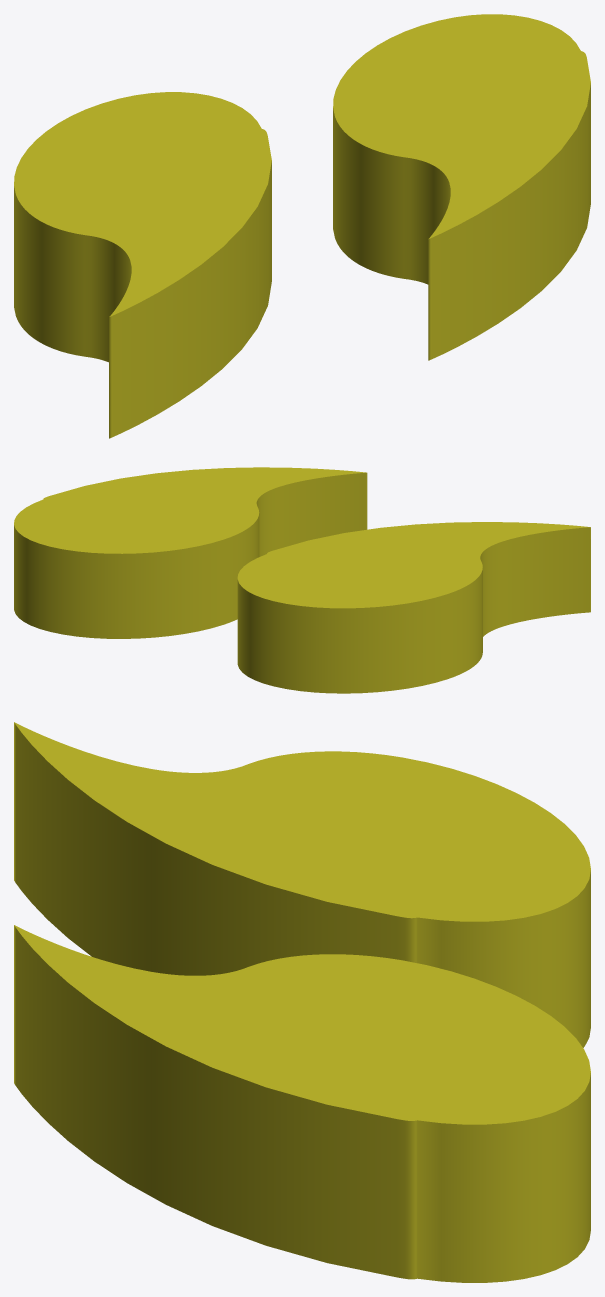
File: DoorRightPanelQuotes.glb
3 renders of one model, top to bottom at view 1: azimuth 30°, elevation 25°; view 2: azimuth 150°, elevation 25°; view 3: azimuth 270°, elevation 25°, orthographic. The views are drawn at different scales.
Visible parts, largest first — view 1: Text; view 2: Text; view 3: Text.
Boxes of the visible parts, left/top/right/bottom form: Text: left=14, top=14, right=590, bottom=438; Text: left=14, top=467, right=590, bottom=693; Text: left=14, top=722, right=590, bottom=1282.
Bounding box in the file's own units: 0.6542 × 0.12 × 0.3962.
